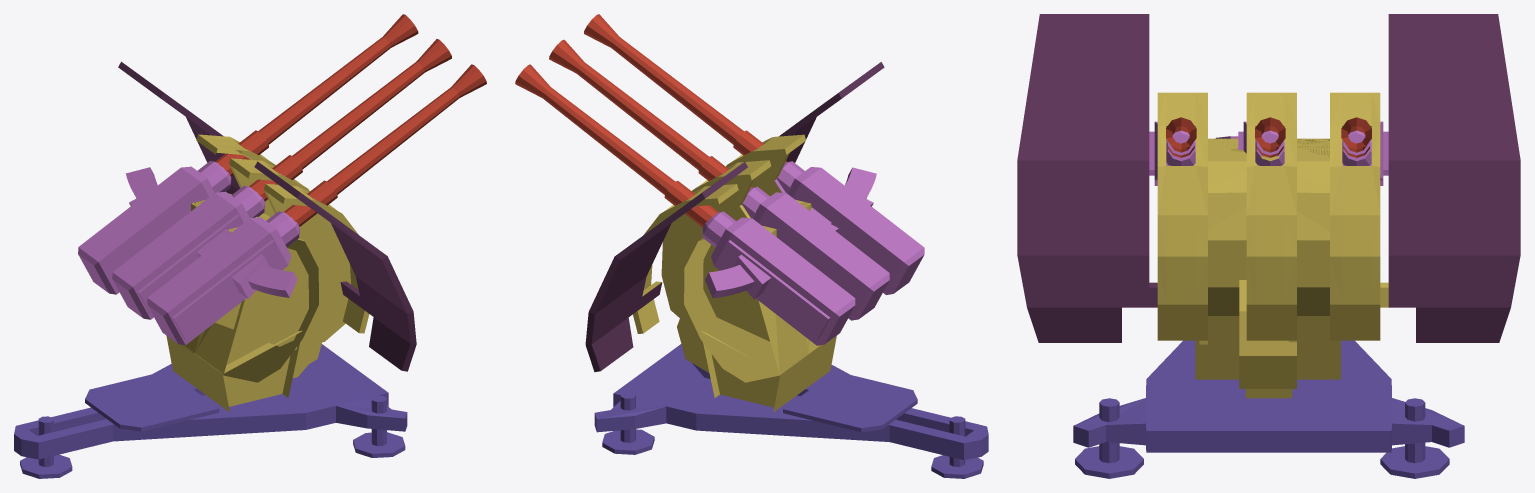
The model's file is FlakCannon_Update_2.fbx.
The picture shows the model from 3 angles, left to right: view 1: azimuth 30°, elevation 25°; view 2: azimuth 150°, elevation 25°; view 3: azimuth 270°, elevation 25°; orthographic projection. The views are drawn at different scales.
Parts seen in each view (by area): view 1: Attack, Base; view 2: Attack, Base; view 3: Attack, Base.
Part boxes in pixels (box(x1,y1,x2,y2)): Attack: box(78, 14, 486, 412); Base: box(14, 344, 407, 478); Attack: box(515, 14, 924, 412); Base: box(594, 344, 988, 478); Attack: box(1017, 14, 1520, 398); Base: box(1073, 340, 1464, 478).
Bounding box in the file's own units: 230 × 168 × 181.
